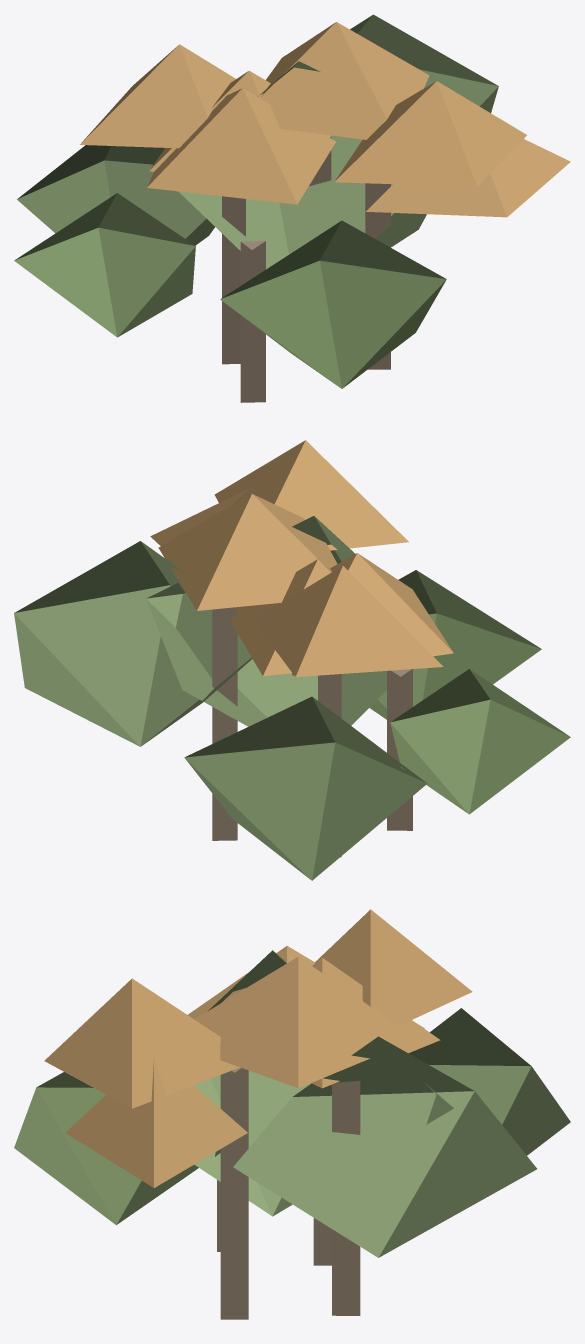
The model's file is shrub.temp.hazel_bloom__summer.glb.
3 views of the same model, one above another, from view 1: azimuth 30°, elevation 25°; view 2: azimuth 150°, elevation 25°; view 3: azimuth 270°, elevation 25° (orthographic). The views are drawn at different scales.
Visible parts, largest first — view 1: shrub.temp.hazel_bloom__summer; view 2: shrub.temp.hazel_bloom__summer; view 3: shrub.temp.hazel_bloom__summer.
Boxes of the visible parts, x1,y1,x2,y2 form: shrub.temp.hazel_bloom__summer: (14,14,570,402); shrub.temp.hazel_bloom__summer: (14,440,570,880); shrub.temp.hazel_bloom__summer: (14,909,570,1319).
Size of the model in its own units: 2.49 by 1.62 by 2.27.
